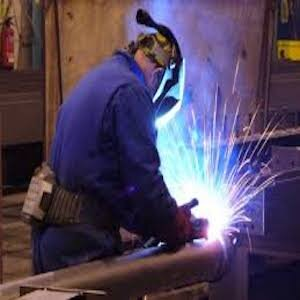heat: (165, 105, 252, 245)
safety: (137, 11, 191, 103)
